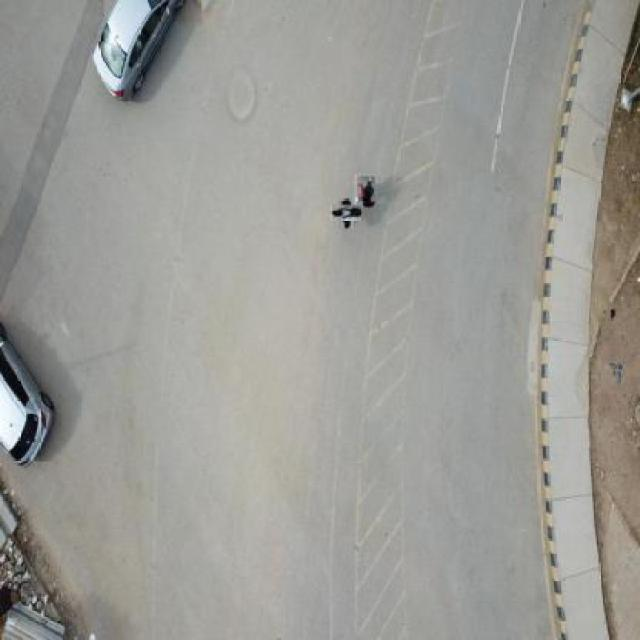Person: (355, 174, 376, 208), (335, 202, 359, 225)
